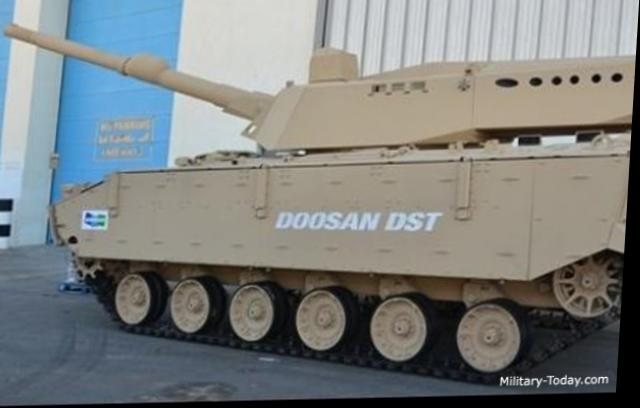tank: (45, 43, 636, 381)
